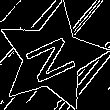N_NE: (20, 28, 83, 86)
